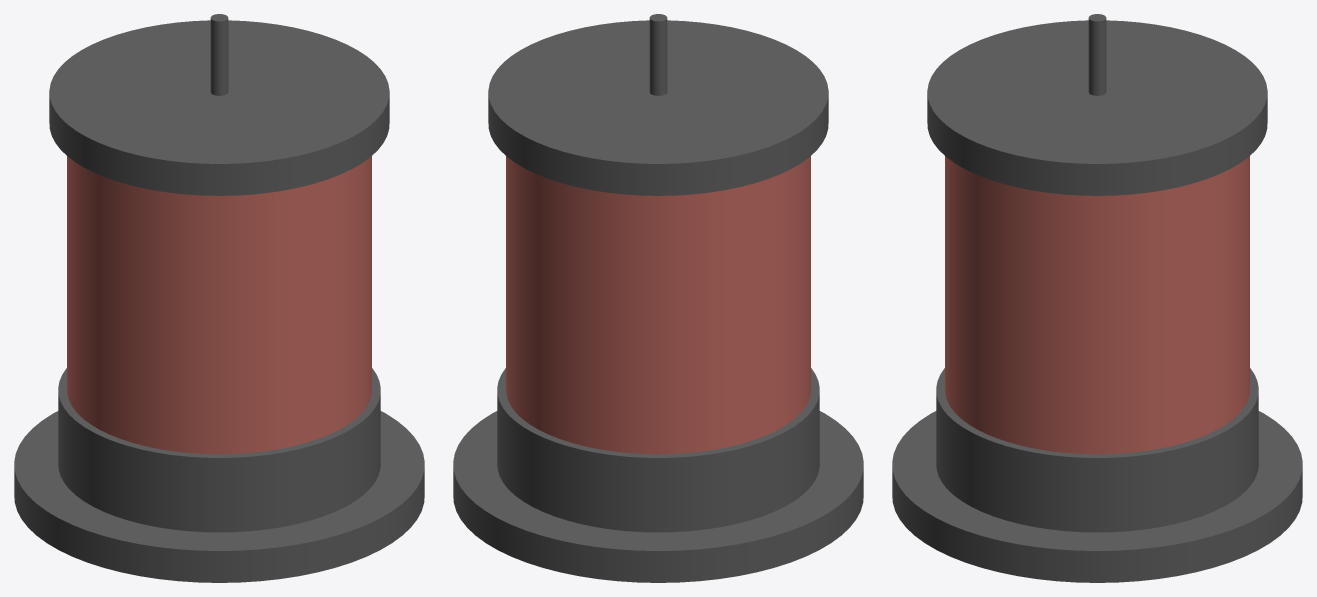
File: step_01.glb
3 views of the same model, side by side, from view 1: azimuth 30°, elevation 25°; view 2: azimuth 150°, elevation 25°; view 3: azimuth 270°, elevation 25° (orthographic).
Visible parts, largest first — view 1: part__lantern lens, part__lantern base, part__lantern cap; view 2: part__lantern lens, part__lantern base, part__lantern cap; view 3: part__lantern lens, part__lantern base, part__lantern cap.
Boxes of the visible parts, x1,y1,x2,y2 form: part__lantern lens: (67, 156, 371, 454); part__lantern base: (14, 368, 424, 582); part__lantern cap: (49, 14, 389, 195); part__lantern lens: (506, 156, 810, 454); part__lantern base: (453, 368, 863, 582); part__lantern cap: (488, 14, 828, 195); part__lantern lens: (945, 156, 1249, 454); part__lantern base: (892, 368, 1302, 582); part__lantern cap: (927, 14, 1267, 195).
Bounding box in the file's own units: 140 × 180 × 140.
